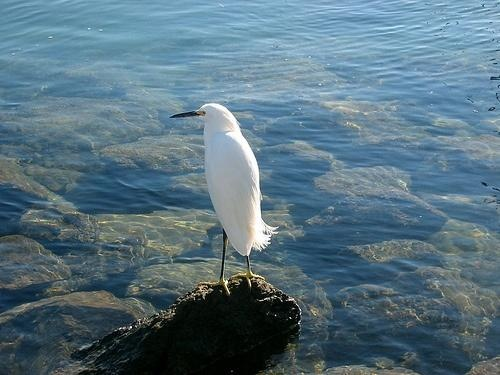bird: (170, 103, 278, 300)
